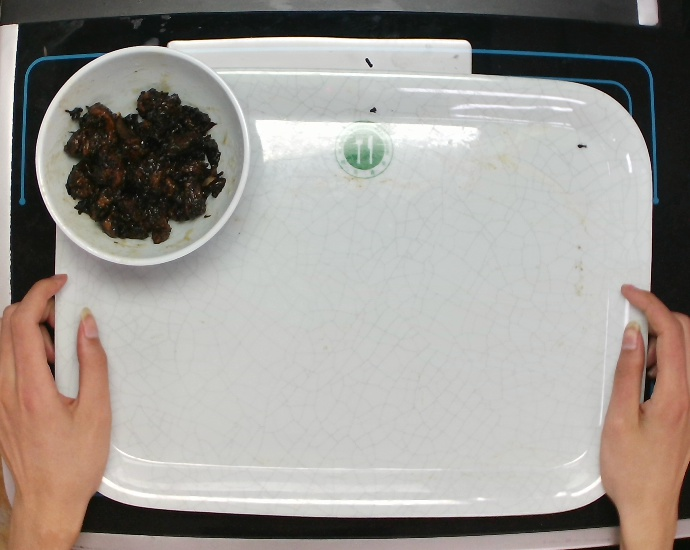JYsf-Fan_Wan: (21, 34, 257, 269)
